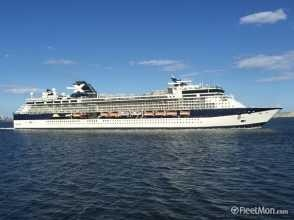youlun: (7, 76, 288, 131)
